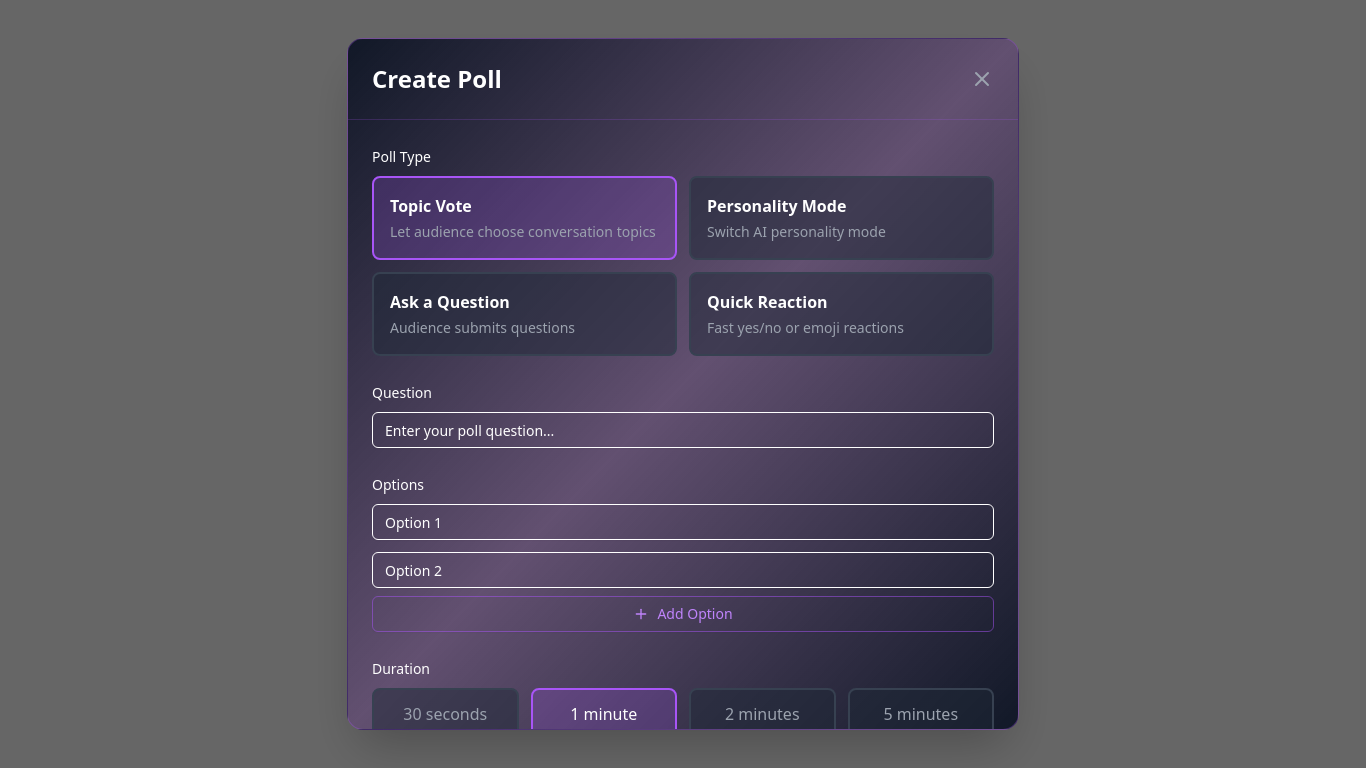
it: PollCreationModal › should allow adding more options
This screenshot has width=1366, height=768.
Click the button "Add Option".
click(683, 614)  # box [372, 596, 994, 632]
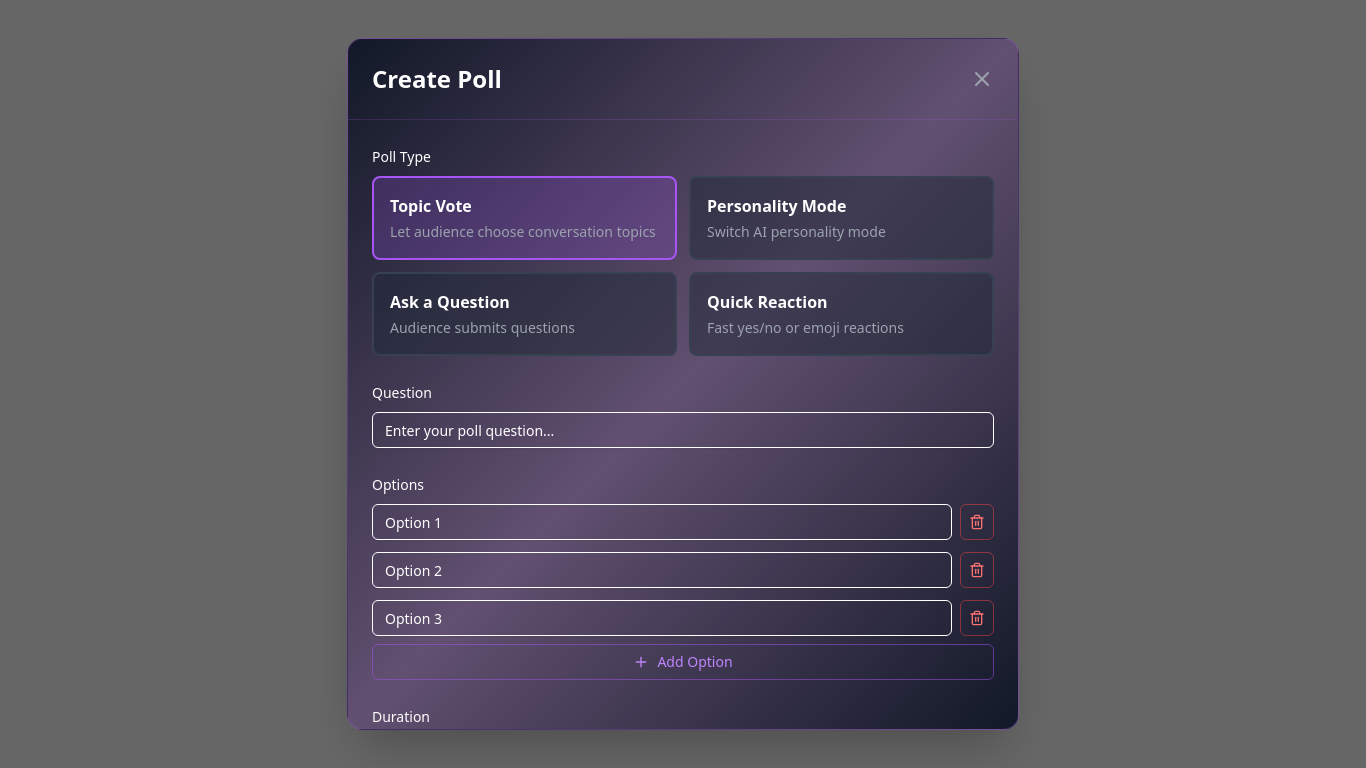
Check: the number of fields with placeholder "Option 1" is 3, box [372, 504, 952, 540]; [372, 552, 952, 588]; [372, 600, 952, 636]
